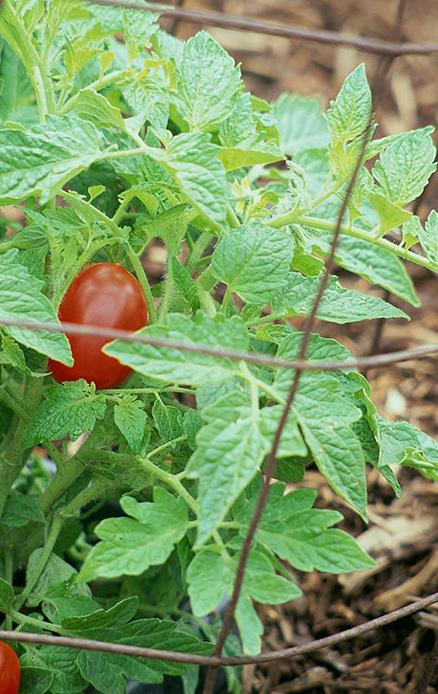Tomato leaf: (257, 369, 374, 524), (180, 383, 287, 539), (52, 602, 214, 690), (81, 491, 202, 591), (255, 482, 381, 576), (316, 215, 423, 309), (0, 120, 105, 211), (160, 30, 247, 135), (0, 236, 71, 363), (109, 321, 241, 386), (218, 215, 296, 309), (18, 376, 113, 450), (372, 127, 437, 206), (331, 63, 384, 158)
